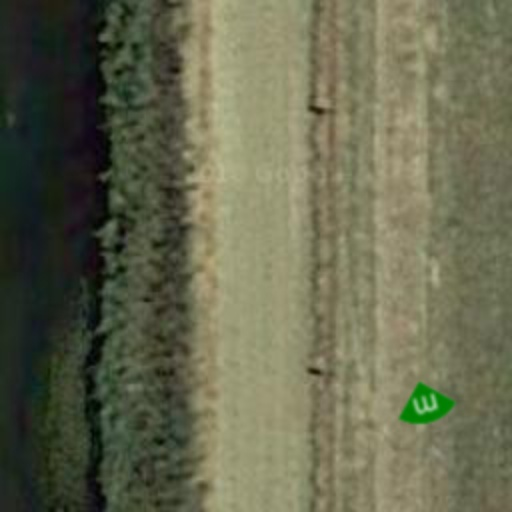quarter_circle: (390, 370, 462, 442)
